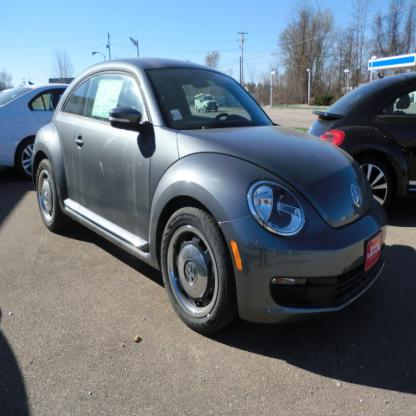Vehicle: (33, 59, 387, 330)
